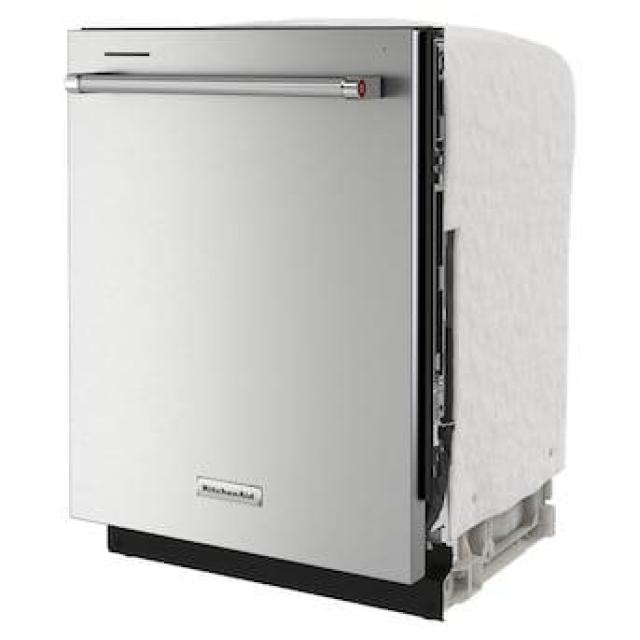dishwasher: (66, 24, 578, 626)
